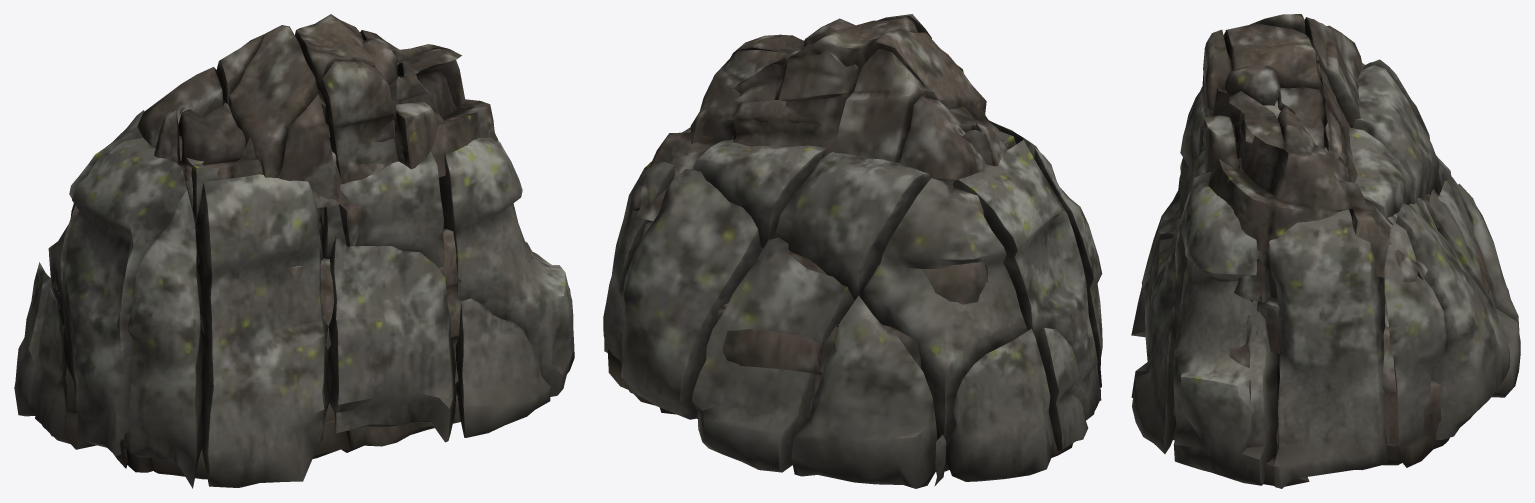
The model's file is alpine-crags.glb.
3 renders of one model, left to right at view 1: azimuth 30°, elevation 25°; view 2: azimuth 150°, elevation 25°; view 3: azimuth 270°, elevation 25°, orthographic. The views are drawn at different scales.
Visible parts, largest first — view 1: crag_block, crag_buttress, crag_face; view 2: crag_block, crag_buttress, crag_face; view 3: crag_block, crag_face, crag_buttress.
Part boxes in pixels (x1,y1,x2,y2): crag_block: [14, 110, 574, 488]; crag_buttress: [137, 14, 443, 421]; crag_face: [42, 38, 534, 479]; crag_block: [603, 120, 1102, 488]; crag_buttress: [691, 14, 986, 418]; crag_face: [608, 18, 1100, 457]; crag_block: [1131, 59, 1520, 488]; crag_face: [1172, 63, 1489, 486]; crag_buttress: [1202, 14, 1368, 208].
Size of the model in its own units: 21.62 by 15.87 by 15.78.
Materials: 1 (1 with a texture image).
